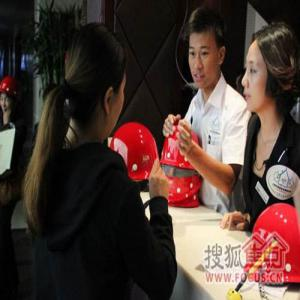none: (61, 24, 128, 142), (242, 20, 296, 118), (187, 10, 228, 94)
red: (2, 77, 18, 119)
